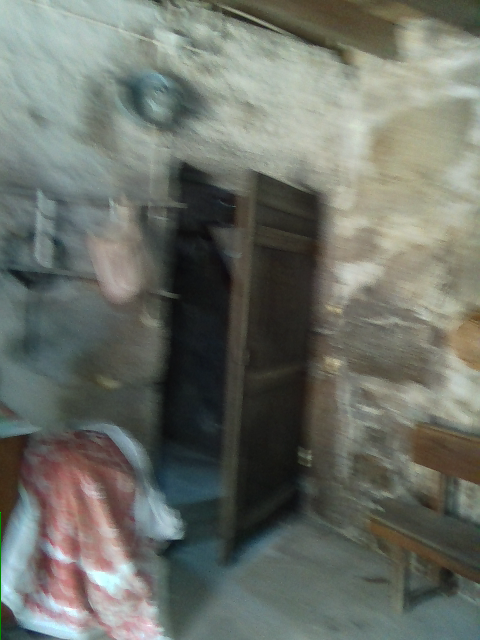semi: (149, 144, 322, 566)
